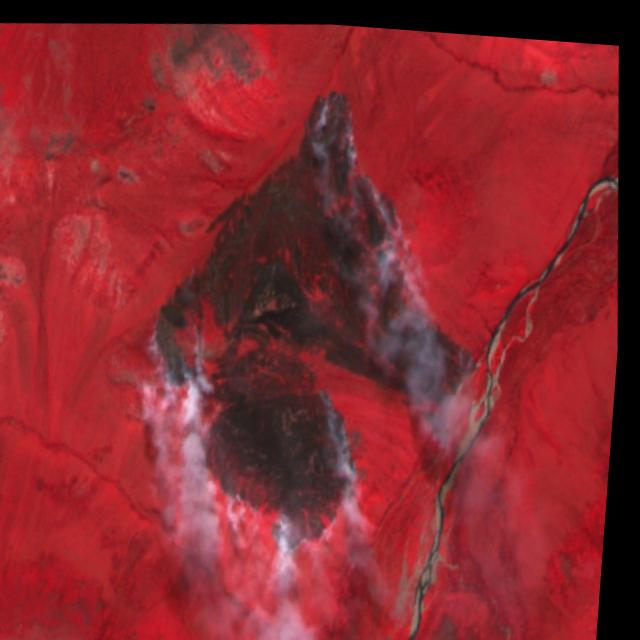fire: (118, 54, 518, 583)
